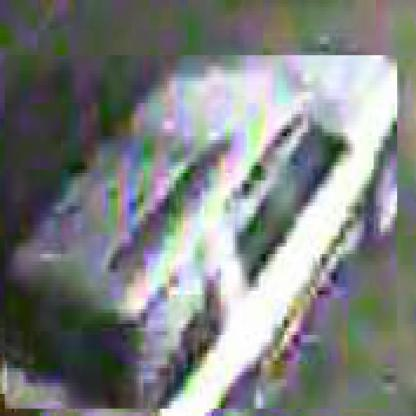car: (6, 57, 401, 414)
